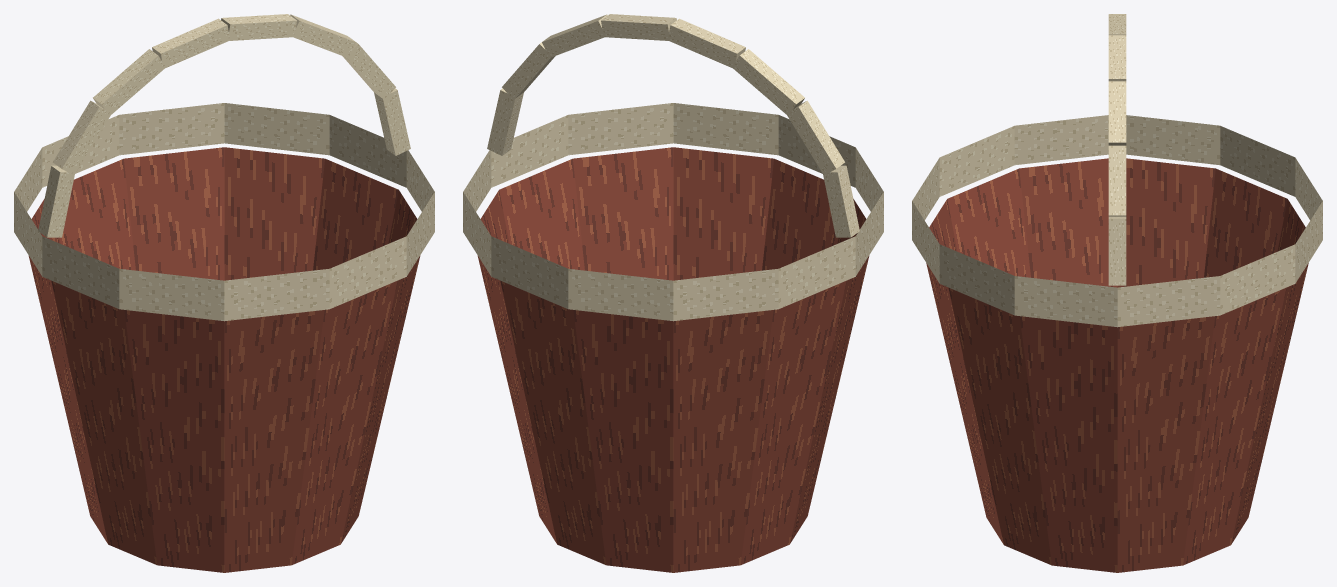
File: beach_bucket.gltf
3 renders of one model, left to right at view 1: azimuth 30°, elevation 25°; view 2: azimuth 150°, elevation 25°; view 3: azimuth 270°, elevation 25°, orthographic. The views are drawn at different scales.
Parts seen in each view (by area): view 1: bucket, rim, handle (×8); view 2: bucket, rim, handle (×8); view 3: bucket, rim, handle (×4).
Boxes of the visible parts, <box> form: bucket: <box>28,147,420,572</box>; rim: <box>14,103,434,321</box>; handle (×8): <box>38,14,410,237</box>; bucket: <box>477,147,869,572</box>; rim: <box>463,103,883,321</box>; handle (×8): <box>487,14,859,237</box>; bucket: <box>926,158,1308,572</box>; rim: <box>912,115,1322,327</box>; handle (×4): <box>1108,35,1126,285</box>.
Size of the model in its own units: 0.5875 by 0.7623 by 0.5875.
2 materials, 2 textured.
